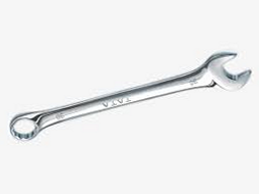Wrench: (10, 47, 250, 143)
